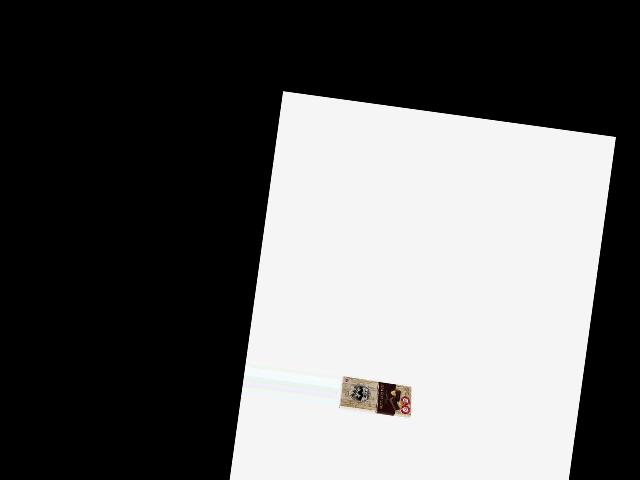chocolate: (337, 375, 416, 423)
